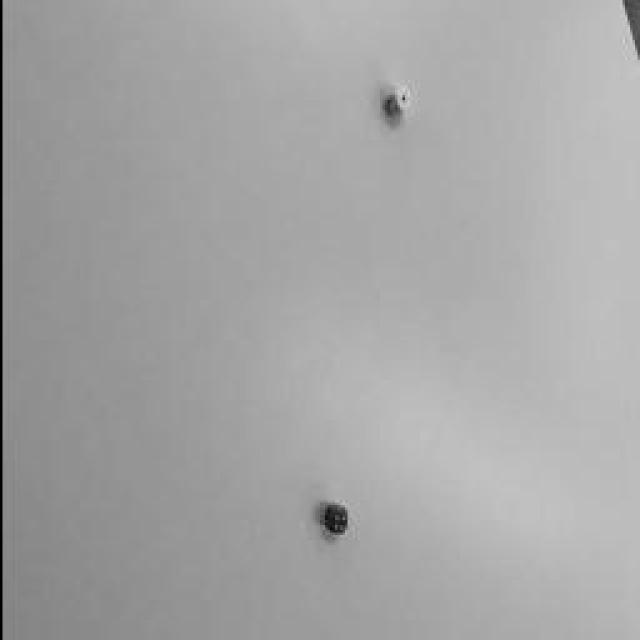dice_1: (395, 86, 410, 112)
dice_4: (329, 511, 346, 534)
